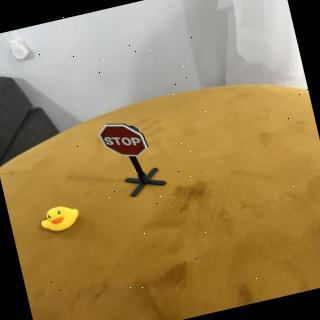duck_regular: (37, 201, 85, 237)
sign_stop: (97, 114, 153, 166)
